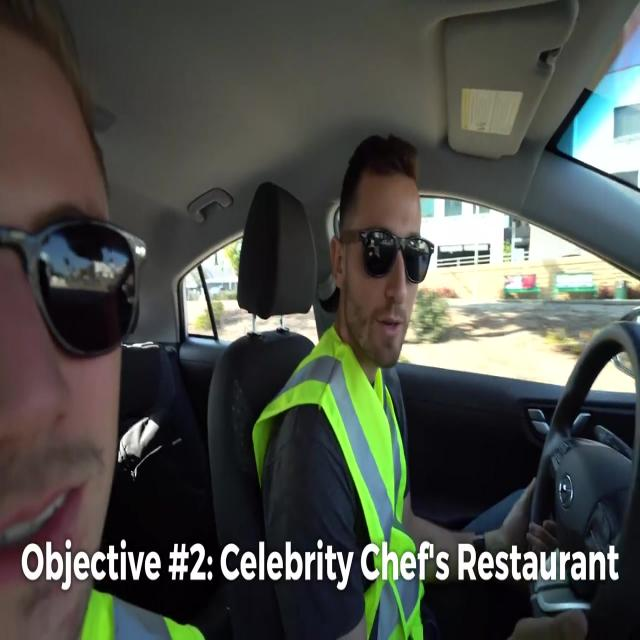Reflective-Jacket: (249, 324, 424, 640)
